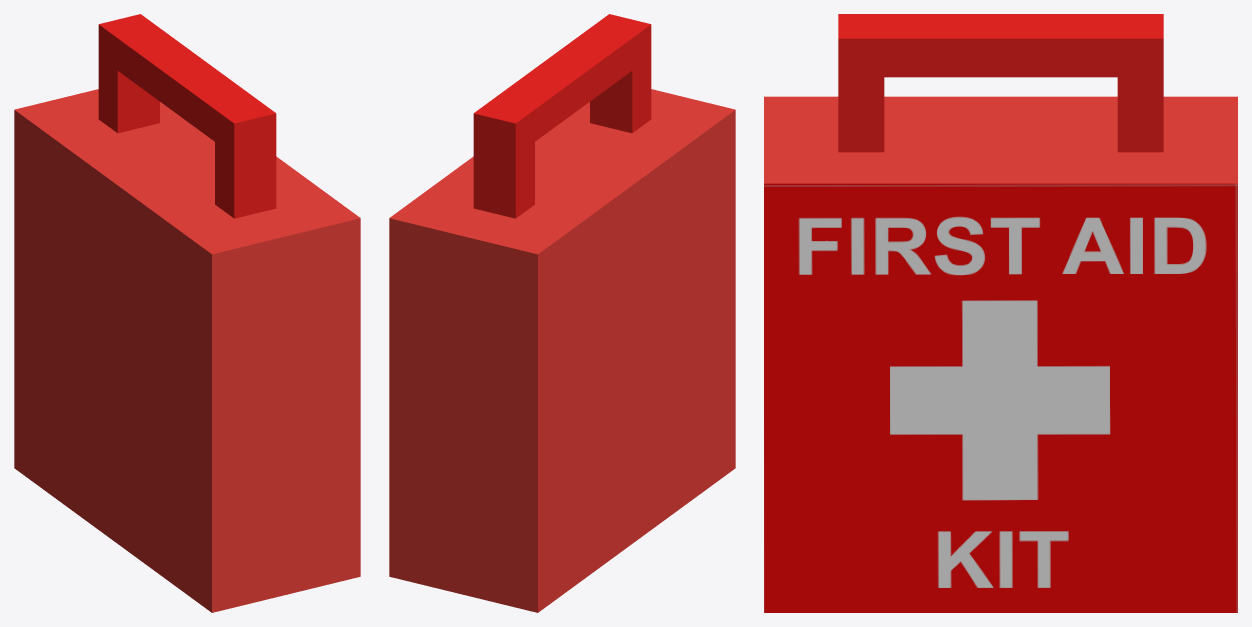
File: medkit.glb
3 views of the same model, side by side, from view 1: azimuth 30°, elevation 25°; view 2: azimuth 150°, elevation 25°; view 3: azimuth 270°, elevation 25° (orthographic). The views are drawn at different scales.
Parts seen in each view (by area): view 1: Cube, handle; view 2: Cube, handle; view 3: Cube, handle.
Part boxes in pixels (left/top/right/bottom): Cube: left=14, top=89, right=360, bottom=612; handle: left=98, top=14, right=276, bottom=218; Cube: left=389, top=89, right=735, bottom=612; handle: left=473, top=14, right=651, bottom=218; Cube: left=764, top=96, right=1237, bottom=612; handle: left=838, top=14, right=1163, bottom=152.
Size of the model in its own units: 0.8681 by 2.53 by 2.
3 materials, 1 textured.
